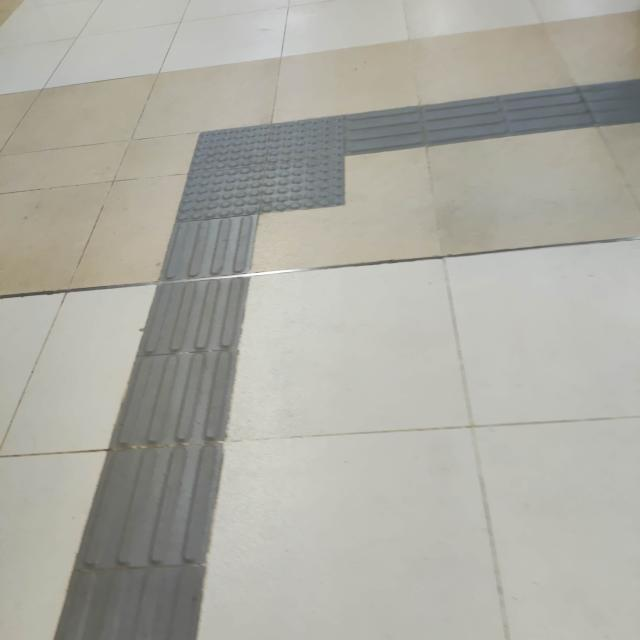kanan: (127, 96, 515, 246)
